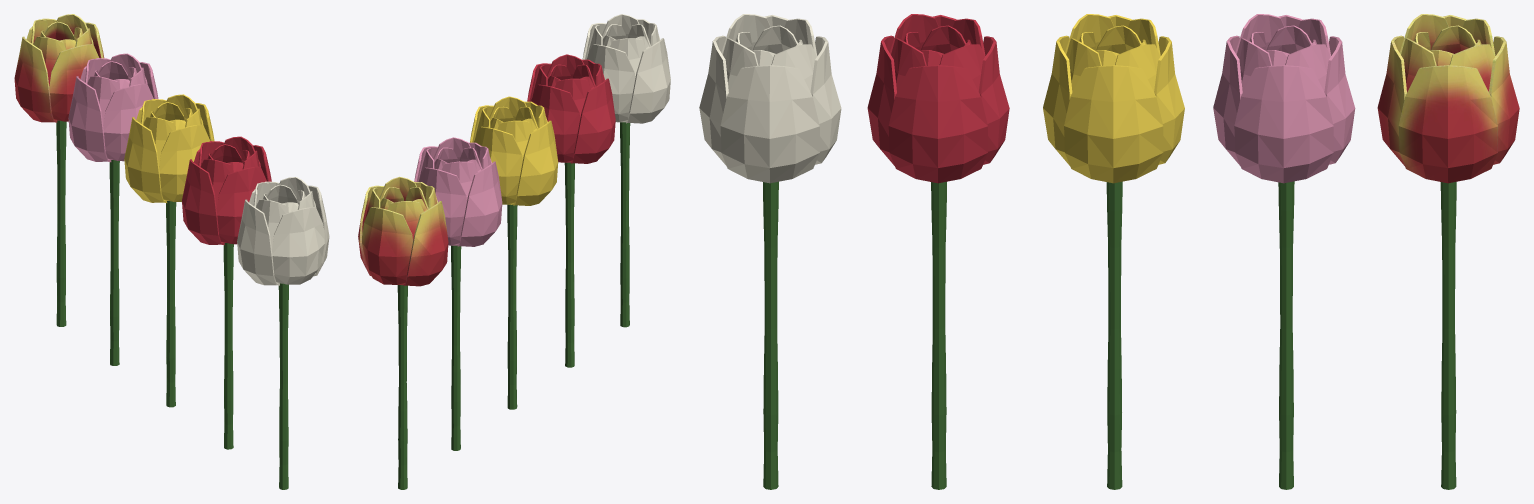
Rendered from aaJtRIXws3U.glb.
The picture shows the model from 3 angles, left to right: view 1: azimuth 30°, elevation 25°; view 2: azimuth 150°, elevation 25°; view 3: azimuth 270°, elevation 25°; orthographic projection. The views are drawn at different scales.
Parts seen in each view (by area): view 1: Node; view 2: Node; view 3: Node.
Boxes of the visible parts, x1,y1,x2,y2 form: Node: [14, 14, 329, 489]; Node: [358, 14, 670, 489]; Node: [699, 14, 1519, 489].
Bounding box in the file's own units: 0.2966 × 1 × 1.63.
Materials: 7 (1 with a texture image).
